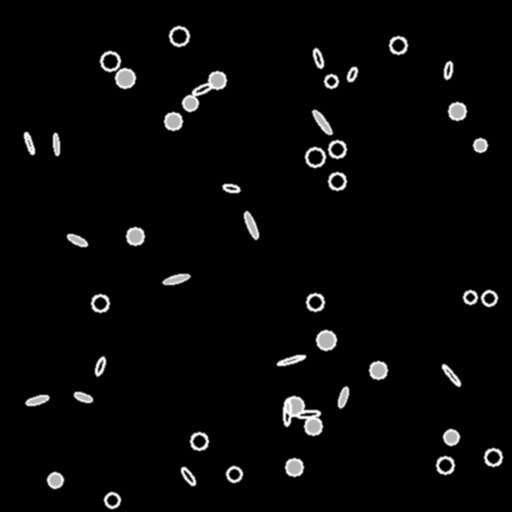pseudomonas: (311, 108, 333, 136), (242, 211, 260, 239), (441, 363, 461, 387), (179, 466, 197, 486), (191, 81, 213, 97), (277, 354, 305, 366), (163, 273, 189, 285), (66, 233, 88, 247), (25, 394, 49, 406), (23, 132, 35, 154), (94, 356, 106, 376), (337, 387, 349, 407), (312, 48, 324, 68), (74, 391, 92, 403), (283, 399, 291, 425), (296, 410, 320, 418), (346, 66, 358, 82), (443, 61, 453, 79), (223, 183, 239, 193), (53, 133, 59, 155)
synechocystis: (116, 69, 134, 87), (285, 397, 303, 415), (101, 52, 119, 70), (170, 27, 188, 45), (317, 331, 335, 349), (306, 148, 324, 166), (485, 449, 501, 465), (165, 113, 181, 129), (329, 141, 345, 157), (437, 457, 453, 473), (191, 433, 207, 449), (286, 459, 302, 475), (127, 228, 143, 244), (92, 295, 108, 311), (370, 362, 386, 378), (307, 294, 323, 310), (209, 72, 225, 88), (305, 418, 321, 434), (329, 173, 345, 189), (449, 103, 465, 119), (390, 37, 406, 53), (227, 467, 241, 481), (183, 96, 197, 110), (48, 473, 62, 487), (482, 291, 496, 305), (105, 493, 119, 507), (444, 430, 458, 444), (464, 291, 476, 303), (325, 75, 337, 87), (474, 139, 486, 151)
